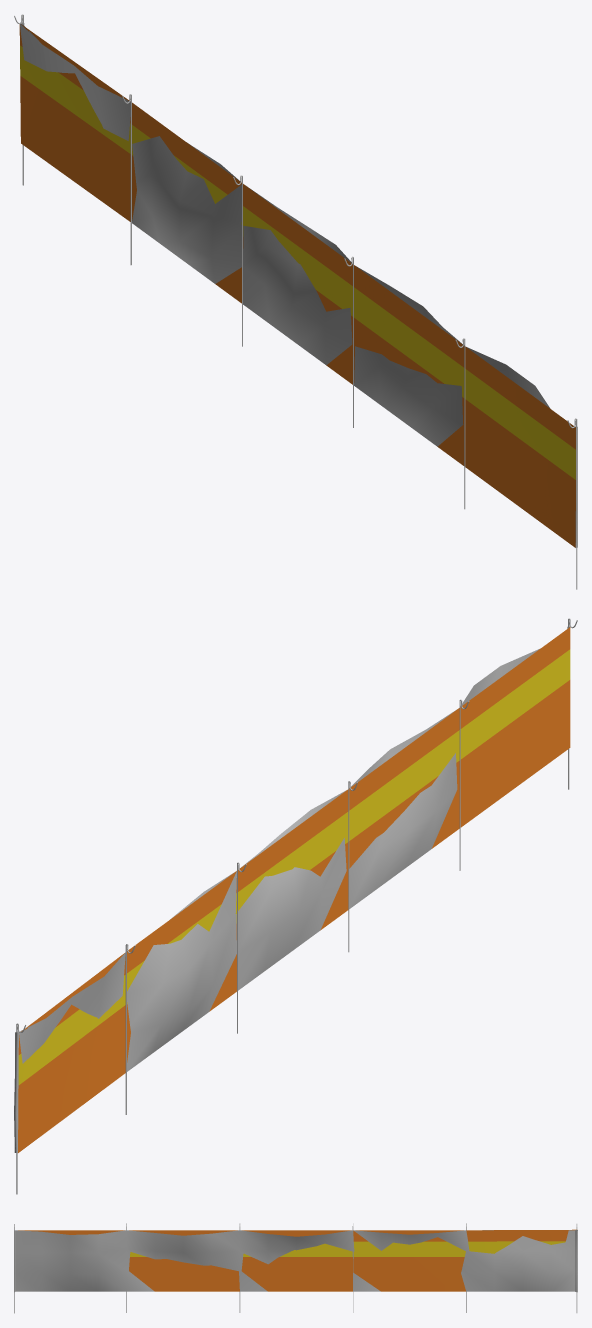
File: ut_race_mesh_barricade_.DAE
The picture shows the model from 3 angles, top to bottom: view 1: azimuth 30°, elevation 25°; view 2: azimuth 150°, elevation 25°; view 3: azimuth 270°, elevation 25°; orthographic projection. The views are drawn at different scales.
Visible parts, largest first — view 1: mesh_barricade_c80, mesh_barricade_c1000, mesh_barricade_c100; view 2: mesh_barricade_c80, mesh_barricade_c1000, mesh_barricade_c100; view 3: mesh_barricade_c1000, mesh_barricade_c80.
Boxes of the visible parts, left/top/right/bottom form: mesh_barricade_c80: left=19, top=24, right=575, bottom=547; mesh_barricade_c1000: left=14, top=14, right=577, bottom=589; mesh_barricade_c100: left=20, top=24, right=575, bottom=542; mesh_barricade_c80: left=18, top=627, right=570, bottom=1152; mesh_barricade_c1000: left=14, top=618, right=577, bottom=1194; mesh_barricade_c100: left=17, top=1018, right=46, bottom=1141; mesh_barricade_c1000: left=14, top=1223, right=577, bottom=1313; mesh_barricade_c80: left=18, top=1229, right=576, bottom=1291.
Size of the model in its own units: 0.2516 by 9.97 by 1.7.
